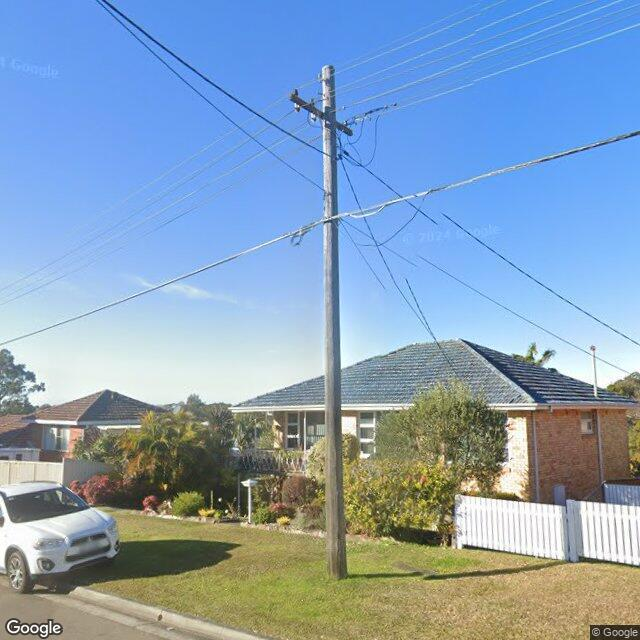crossarm: (290, 91, 354, 137)
timber-pole: (321, 65, 346, 580)
